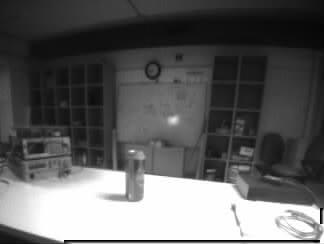Tin can: (126, 150, 143, 201)
